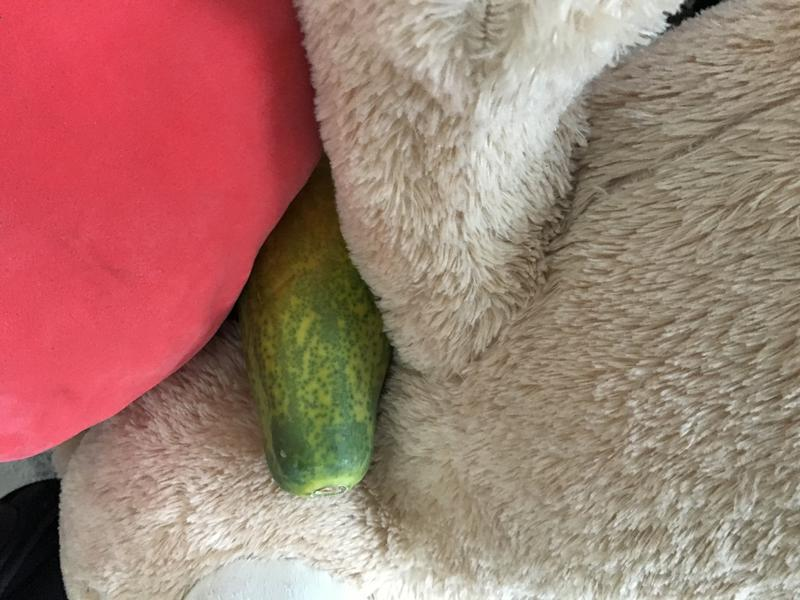papaya: (236, 143, 403, 504)
